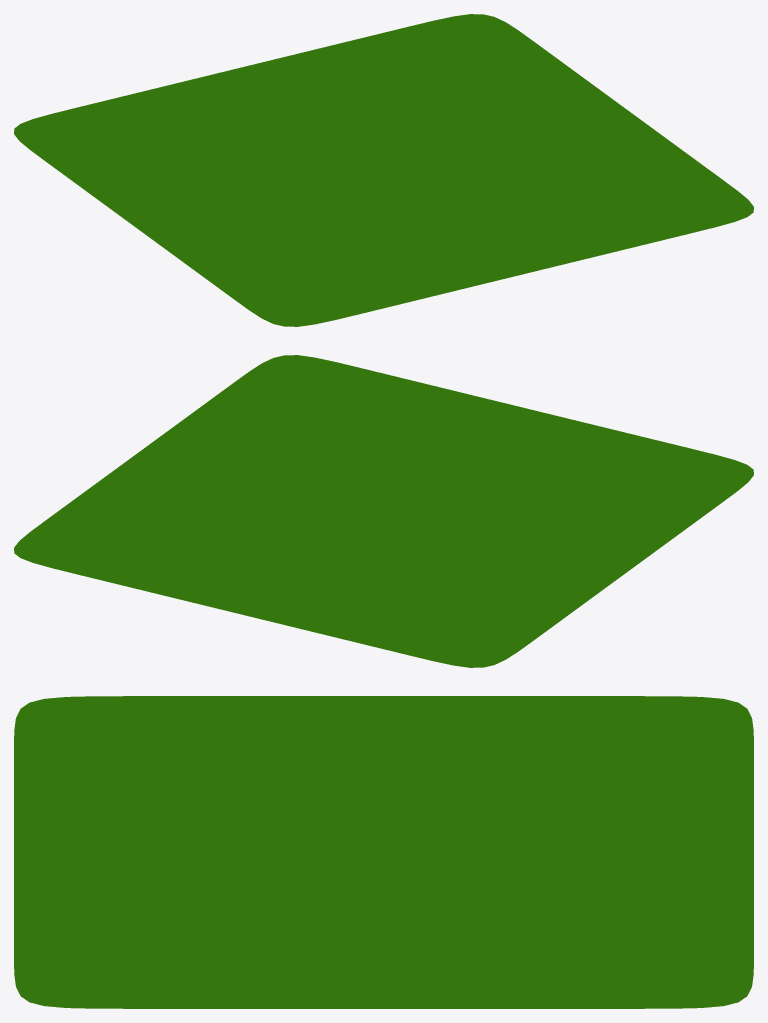
Rendered from platformv2.glb.
The picture shows the model from 3 angles, top to bottom: view 1: azimuth 30°, elevation 25°; view 2: azimuth 150°, elevation 25°; view 3: azimuth 270°, elevation 25°; orthographic projection. The views are drawn at different scales.
Visible parts, largest first — view 1: Plane; view 2: Plane; view 3: Plane.
Boxes of the visible parts, x1,y1,x2,y2 form: Plane: (14, 14, 753, 326); Plane: (14, 355, 753, 667); Plane: (14, 696, 753, 1008).
Bounding box in the file's own units: 16.77 × 0 × 16.77.
